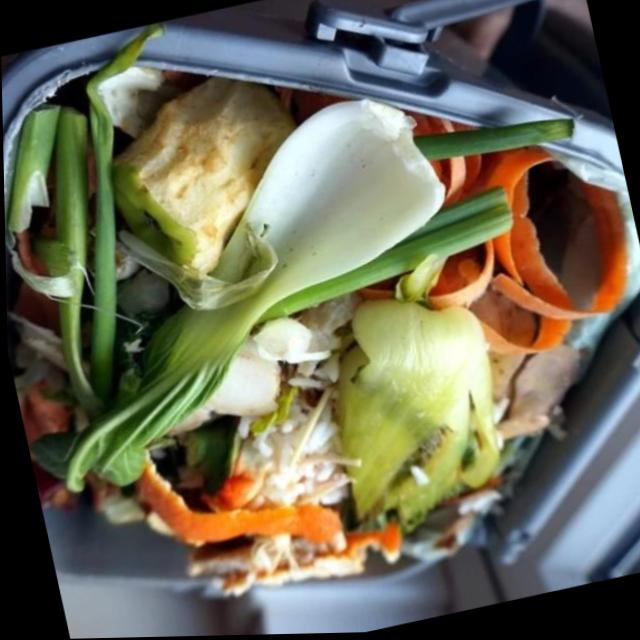Wet: (2, 77, 532, 504), (324, 125, 640, 392), (84, 43, 322, 308), (301, 279, 521, 545), (119, 408, 348, 592), (2, 96, 95, 235)
